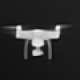plane: (1, 23, 78, 61)
